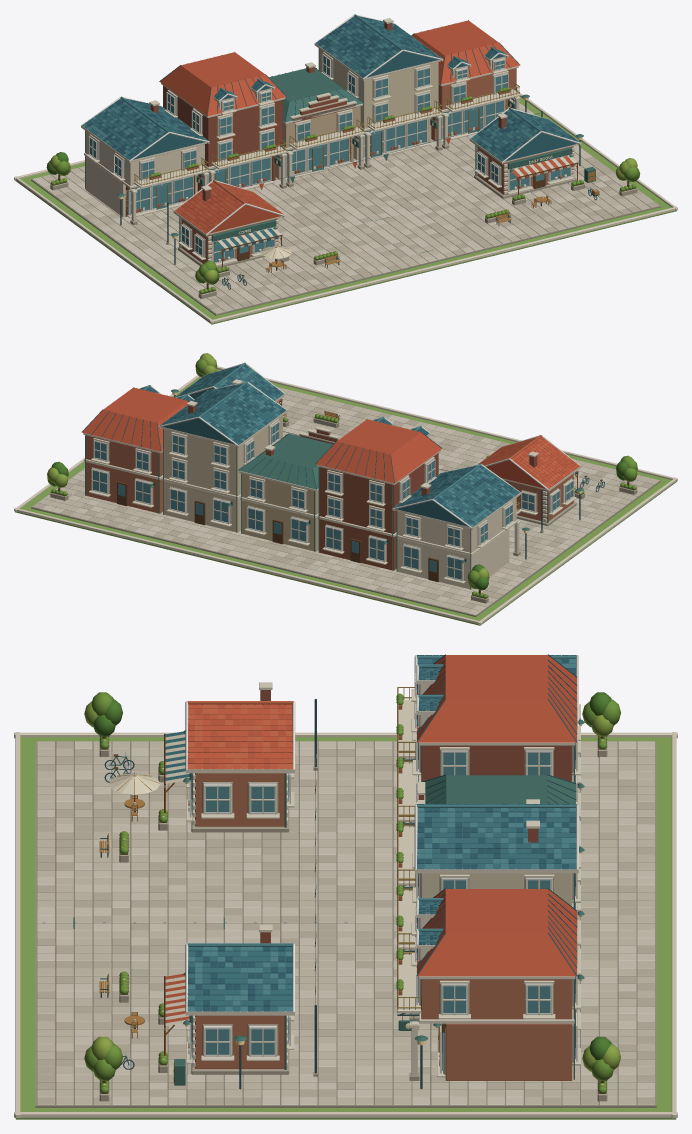
File: level-3.glb
3 views of the same model, one above another, from view 1: azimuth 30°, elevation 25°; view 2: azimuth 150°, elevation 25°; view 3: azimuth 270°, elevation 25° (orthographic). The views are drawn at different scales.
Visible parts, largest first — view 1: finance_level_3_geometry; view 2: finance_level_3_geometry; view 3: finance_level_3_geometry.
Part boxes in pixels (bbox=[...]): finance_level_3_geometry: bbox=[14, 14, 677, 324]; finance_level_3_geometry: bbox=[14, 353, 677, 625]; finance_level_3_geometry: bbox=[14, 654, 677, 1119].
Bounding box in the file's own units: 60 × 13.87 × 44.
